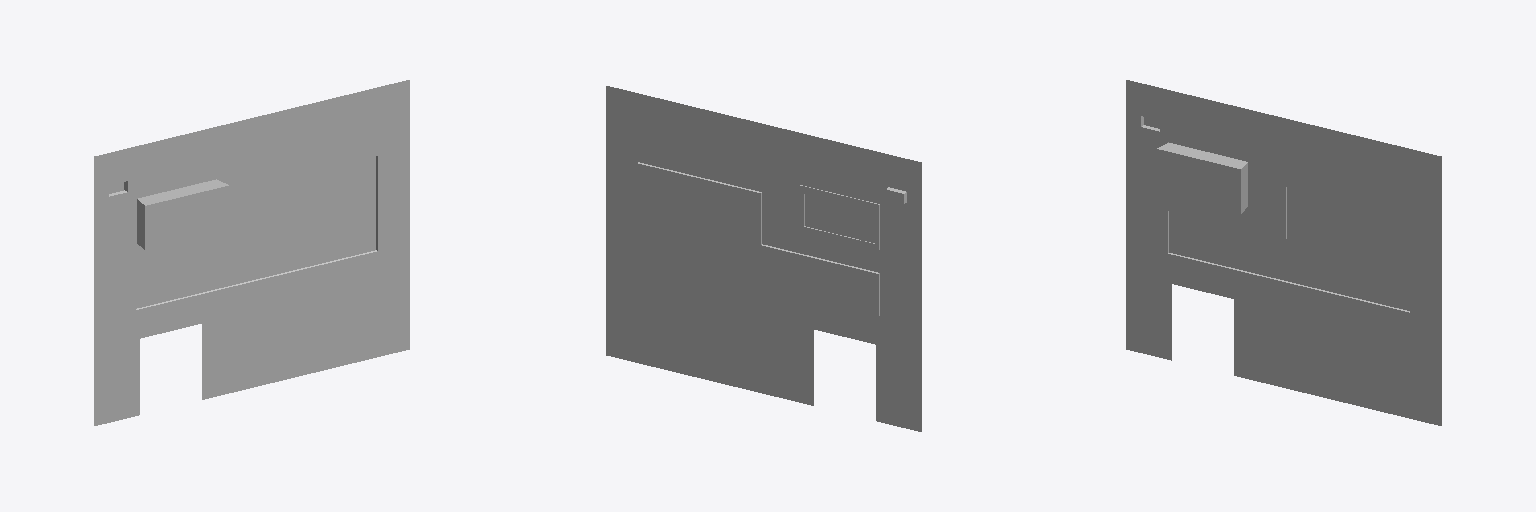
The model's file is WallB.obj.
The picture shows the model from 3 angles: view 1: azimuth 30°, elevation 25°; view 2: azimuth 150°, elevation 25°; view 3: azimuth 330°, elevation 25°; orthographic projection.
Parts seen in each view (by area): view 1: WallB.001; view 2: WallB.001; view 3: WallB.001.
Part boxes in pixels (x1,y1,x2,y2): WallB.001: (94,80,409,425); WallB.001: (606,86,921,431); WallB.001: (1126,80,1441,425).
Size of the model in its own units: 9.36 by 7.65 by 0.6411.